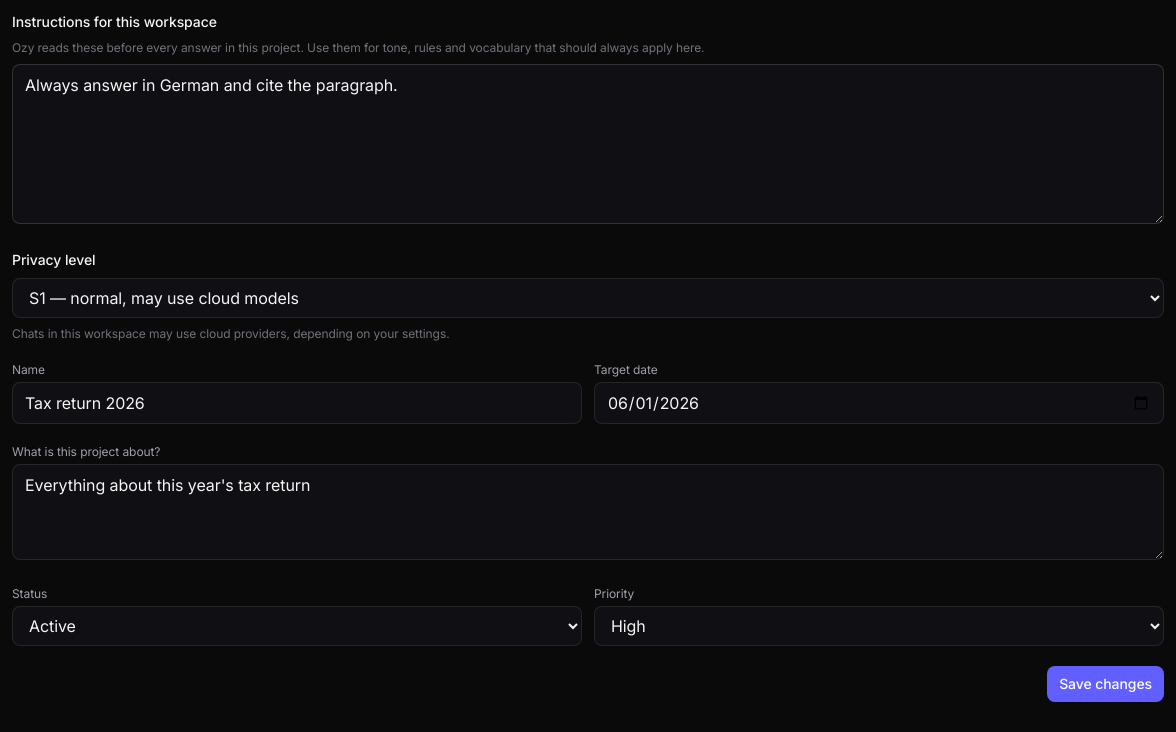
Test: InstructionsTab › promises local-only processing for sensitive workspaces
Check: the text "Chats in this workspace may use cloud providers" is shown, box [12, 326, 450, 341]
Select "S3 — sensitive, stays on local models" in the dropdown labelled "Privacy level" at (588, 298), box [12, 278, 1164, 318]
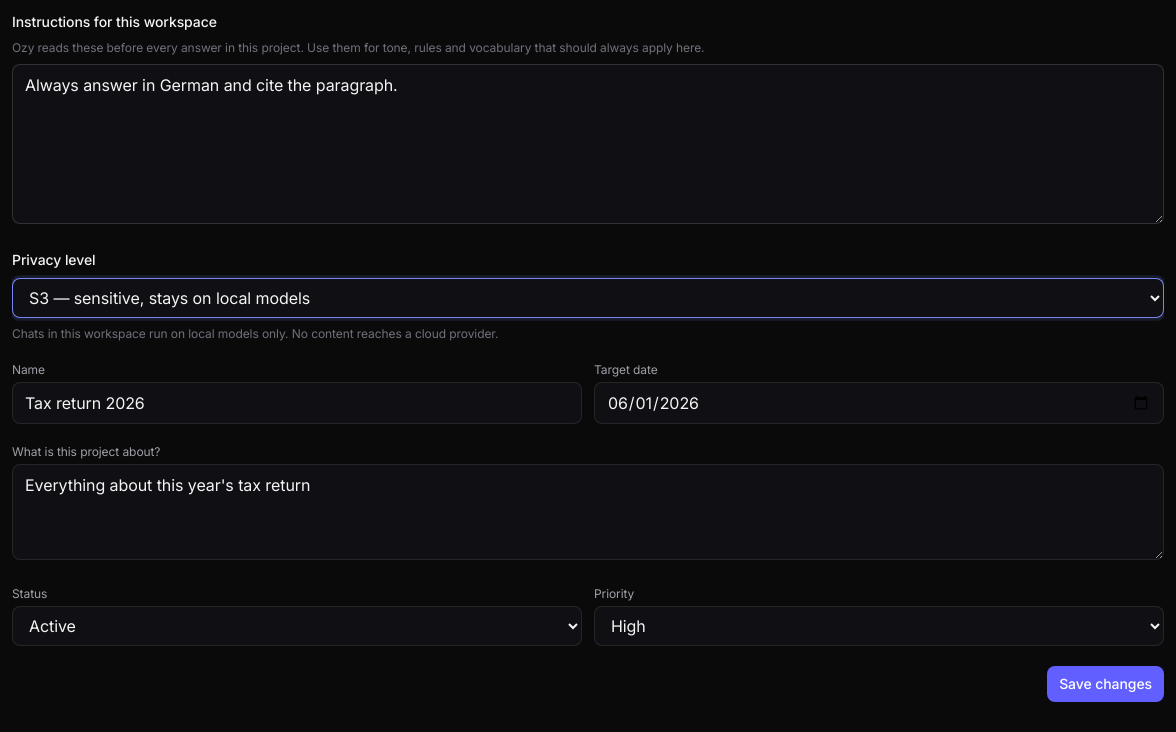
Check: the text "run on local models only" is shown, box [12, 326, 498, 341]
